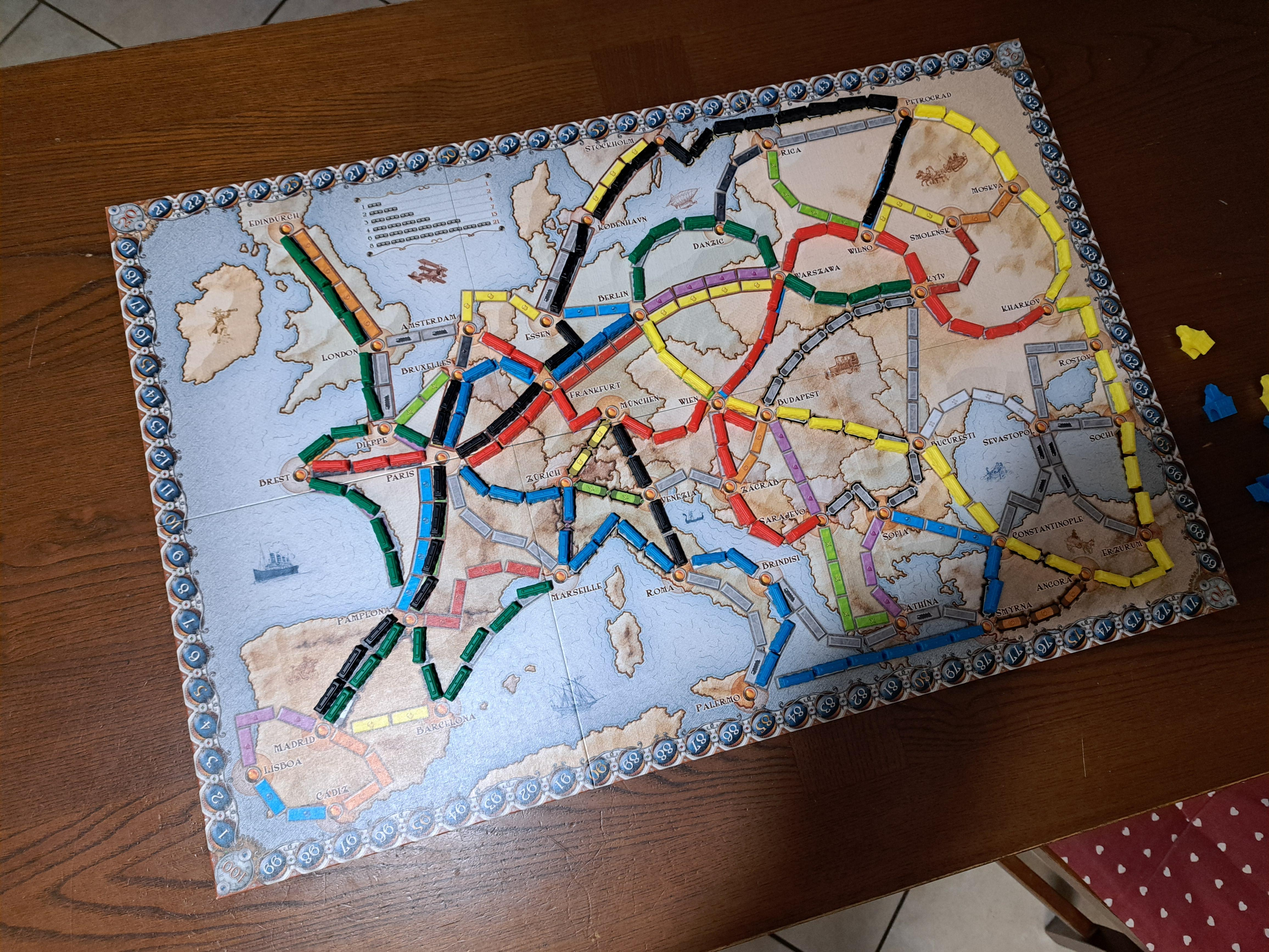corner_bl: (212, 845, 262, 898)
corner_br: (1197, 575, 1239, 611)
corner_tl: (107, 200, 149, 237)
corner_tr: (994, 38, 1026, 69)
